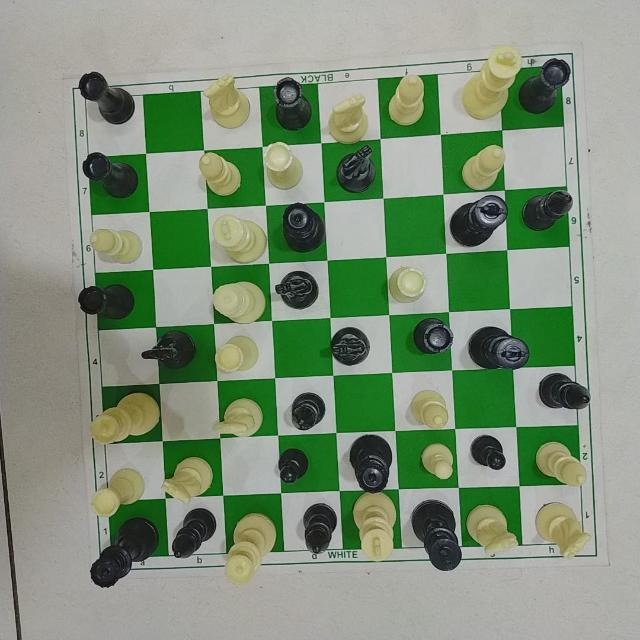black-bishop: (171, 506, 215, 558), (521, 191, 572, 231), (539, 371, 591, 410), (301, 503, 336, 555), (291, 392, 326, 432)
black-king: (409, 498, 461, 573), (450, 196, 508, 248), (466, 326, 531, 370)
black-knight: (139, 328, 197, 367), (337, 145, 377, 191), (275, 269, 317, 309), (331, 325, 371, 365)
black-pawn: (470, 433, 508, 472), (275, 447, 309, 483)
black-queen: (89, 518, 158, 589), (281, 203, 325, 251)
black-rook: (79, 71, 135, 125), (519, 57, 569, 113), (81, 153, 139, 197), (271, 76, 313, 131), (77, 285, 134, 321), (415, 316, 454, 355)
white-bishop: (534, 441, 590, 487), (390, 75, 428, 125), (464, 144, 504, 191), (90, 229, 142, 265), (198, 153, 242, 195), (410, 389, 452, 428)
white-king: (464, 44, 518, 119), (350, 491, 398, 565), (211, 214, 267, 264)
white-knight: (536, 503, 589, 558), (202, 72, 250, 129), (467, 505, 519, 555), (163, 456, 212, 504), (327, 91, 372, 143), (216, 398, 262, 437)
white-pawn: (421, 442, 456, 480)
white-queen: (223, 510, 277, 581), (91, 392, 163, 445), (347, 433, 393, 491), (214, 277, 264, 322)
white-rook: (92, 468, 145, 520), (262, 141, 302, 191), (215, 335, 260, 373), (390, 265, 426, 304)
